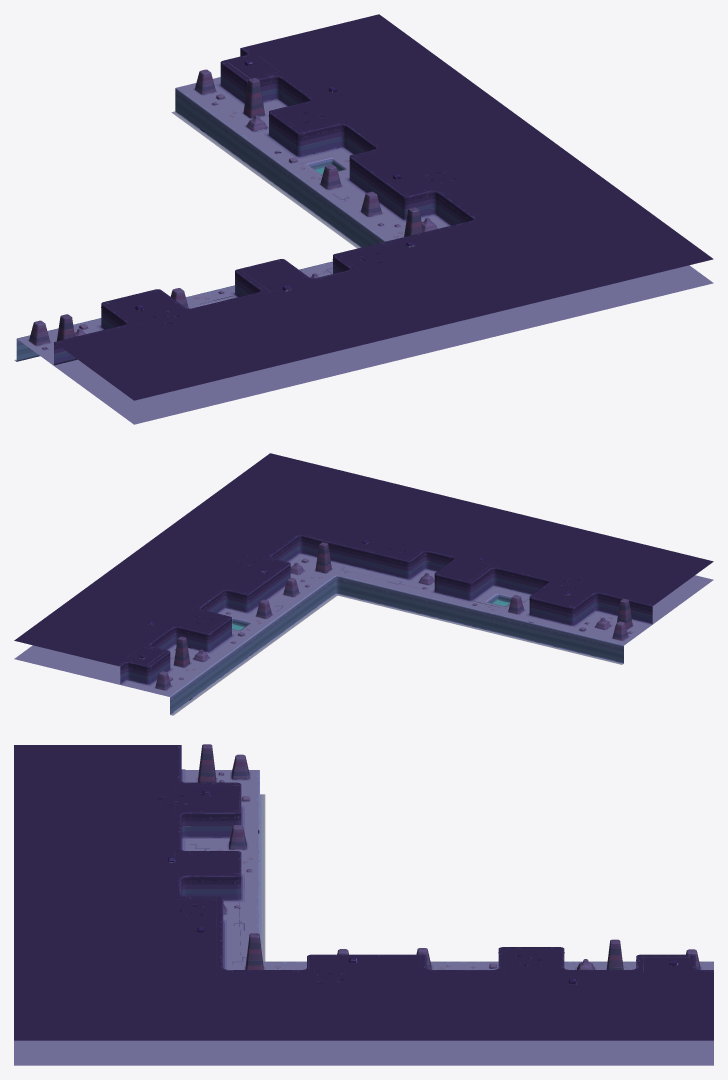
The model's file is C_cave1_out_LU.fbx.
3 renders of one model, top to bottom at view 1: azimuth 30°, elevation 25°; view 2: azimuth 150°, elevation 25°; view 3: azimuth 270°, elevation 25°, orthographic. The views are drawn at different scales.
Visible parts, largest first — view 1: C_cave1_out_LU.001; view 2: C_cave1_out_LU.001; view 3: C_cave1_out_LU.001.
Boxes of the visible parts, x1,y1,x2,y2 form: C_cave1_out_LU.001: (14, 14, 713, 424); C_cave1_out_LU.001: (14, 453, 713, 715); C_cave1_out_LU.001: (14, 744, 713, 1065).
Size of the model in its own units: 117 by 11.26 by 117.
Materials: 1 (1 with a texture image).
